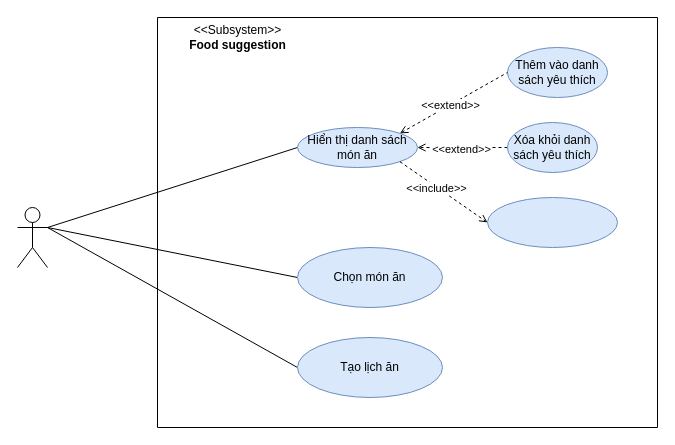
Image size: 675x445. Some labels were removed from this diagram. The shapes that lost their labels are listed below. From the top down, each one's centre as x and y in pixels, then its label:
At [32,237]: "User".
At [552,222]: "Tích toán tổng calo".
